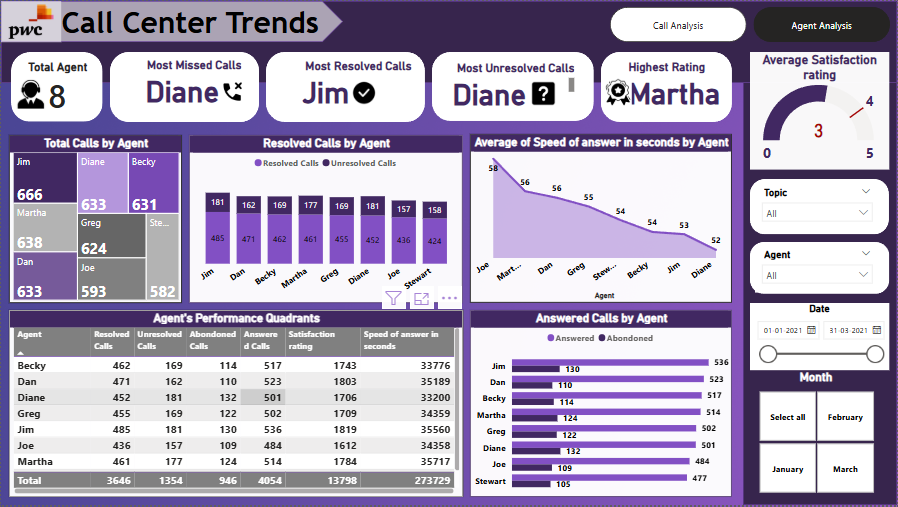

Layout of this report page (visuals, bound fields, positions):
{"tool":"powerbi","page":{"name":"Agent Analysis","canvas":[1280,720],"ordinal":1},"visuals":[{"type":"shape","box":[1060,0,220,720],"z":0},{"type":"shape","box":[0,0,1280,117.1],"z":1000},{"type":"shape","box":[857.1,72.9,187.1,100],"z":2000},{"type":"shape","box":[378.6,72.9,227.1,100],"z":3000},{"type":"shape","box":[615.7,72.9,231.4,98.6],"z":4000},{"type":"shape","box":[155.7,72.9,212.9,100],"z":5000},{"type":"multiRowCard","title":"Most Missed Calls","fields":{"Values":["Sheet1.Agent"]},"box":[201.4,81.4,147.1,77.1],"z":6000},{"type":"lineStackedColumnComboChart","title":"Resolved Calls by Agent","fields":{"Y":["Sheet1.Yes","Sheet1.No"],"Category":["Sheet1.Agent"]},"box":[268.6,191.4,391.4,240],"z":7000},{"type":"gauge","title":"Average Satisfaction rating","fields":{"Y":["Avg(Sheet1.Satisfaction rating)"]},"box":[1069.6,72.8,199,168.3],"z":8000},{"type":"slicer","title":"Month","fields":{"Values":["Sheet1.Date.Variation.Date Hierarchy.Month"]},"box":[1060,527.1,208.6,182.9],"z":9000},{"type":"shape","box":[1069.6,254.1,199,79.3],"z":10000},{"type":"shape","box":[1069.6,344.7,199,74.4],"z":11000},{"type":"slicer","fields":{"Values":["Sheet1.Agent"]},"box":[1077.7,347.9,178,68],"z":12000},{"type":"slicer","fields":{"Values":["Sheet1.Topic"]},"box":[1077.7,260.5,178,68],"z":13000},{"type":"slicer","title":"Date","fields":{"Values":["Sheet1.Date"]},"box":[1070,431.4,198.6,95.7],"z":14000},{"type":"areaChart","fields":{"Category":["Sheet1.Agent"],"Y":["Avg(Sheet1.Speed of answer in seconds)"]},"box":[670,190,374.3,241.4],"z":15000},{"type":"treemap","fields":{"Values":["Sheet1.Total Calls"],"Group":["Sheet1.Agent"]},"box":[11.4,191.4,247.1,240],"z":16000},{"type":"clusteredBarChart","title":"Answered Calls by Agent","fields":{"Category":["Sheet1.Agent"],"Y":["Sheet1.Answered","Sheet1.Abondoned"]},"box":[670,441.4,374.3,267.1],"z":17000},{"type":"shape","box":[14.3,72.9,131.4,100],"z":18000},{"type":"card","title":"Total Agent","fields":{"Values":["Count(Sheet1.Agent)"]},"box":[32.9,84.3,95.7,81.4],"z":19000},{"type":"shape","box":[0,0,488.6,58.6],"z":20000},{"type":"image","box":[0,0,85.7,58.6],"z":21000},{"type":"textbox","box":[81.4,0,458.6,72.9],"z":22000},{"type":"tableEx","title":"Agent''s Performance Quadrants","fields":{"Values":["Sheet1.Agent","Sheet1.Yes","Sheet1.No","Sheet1.Abondoned","Sheet1.Answered","Sum(Sheet1.Satisfaction rating)","Sum(Sheet1.Speed of answer in seconds)"]},"box":[11.4,441.4,648.6,267.1],"z":23000},{"type":"multiRowCard","title":"Most Resolved Calls","fields":{"Values":["Sheet1.Agent"]},"box":[425.7,82.9,165.7,78.6],"z":24000},{"type":"multiRowCard","title":"Most Unresolved Calls","fields":{"Values":["Sheet1.Agent"]},"box":[640,85.7,184.3,72.9],"z":25000},{"type":"multiRowCard","title":"Highest Rating","fields":{"Values":["Sheet1.Agent"]},"box":[891.4,84.3,142.9,77.1],"z":26000},{"type":"pageNavigator","box":[870,8.6,400,50],"z":27000},{"type":"image","box":[17.1,105.7,51.4,55.7],"z":28000},{"type":"image","box":[752.9,107.1,44.3,50],"z":29000},{"type":"image","box":[497.1,105.7,42.9,51.4],"z":30000},{"type":"image","box":[312.9,101.4,35.7,55.7],"z":31000},{"type":"image","box":[857.1,102.9,48.6,55.7],"z":32000}]}

Visuals, with their boxes in screenshot pixels (x1, y1, x2, y2), scaled from the page's 1280x720 canvas onto the 898x507 screenshot:
shape: locate(744, 0, 897, 506)
shape: locate(0, 0, 897, 82)
shape: locate(601, 51, 733, 122)
shape: locate(266, 51, 425, 122)
shape: locate(432, 51, 594, 121)
shape: locate(109, 51, 259, 122)
"Most Missed Calls" multiRowCard: locate(141, 57, 244, 112)
"Resolved Calls by Agent" lineStackedColumnComboChart: locate(188, 135, 463, 304)
"Average Satisfaction rating" gauge: locate(750, 51, 890, 170)
"Month" slicer: locate(744, 371, 890, 500)
shape: locate(750, 179, 890, 235)
shape: locate(750, 243, 890, 295)
slicer - Sheet1.Agent: locate(756, 245, 881, 293)
slicer - Sheet1.Topic: locate(756, 183, 881, 231)
"Date" slicer: locate(751, 304, 890, 371)
areaChart - Sheet1.Agent x Avg(Sheet1.Speed of answer in seconds): locate(470, 134, 733, 304)
treemap - Sheet1.Total Calls x Sheet1.Agent: locate(8, 135, 181, 304)
"Answered Calls by Agent" clusteredBarChart: locate(470, 311, 733, 499)
shape: locate(10, 51, 102, 122)
"Total Agent" card: locate(23, 59, 90, 117)
shape: locate(0, 0, 343, 41)
image: locate(0, 0, 60, 41)
textbox: locate(57, 0, 379, 51)
"Agent''s Performance Quadrants" tableEx: locate(8, 311, 463, 499)
"Most Resolved Calls" multiRowCard: locate(299, 58, 415, 114)
"Most Unresolved Calls" multiRowCard: locate(449, 60, 578, 112)
"Highest Rating" multiRowCard: locate(625, 59, 726, 114)
pageNavigator: locate(610, 6, 891, 41)
image: locate(12, 74, 48, 114)
image: locate(528, 75, 559, 111)
image: locate(349, 74, 379, 111)
image: locate(220, 71, 245, 111)
image: locate(601, 72, 635, 112)
